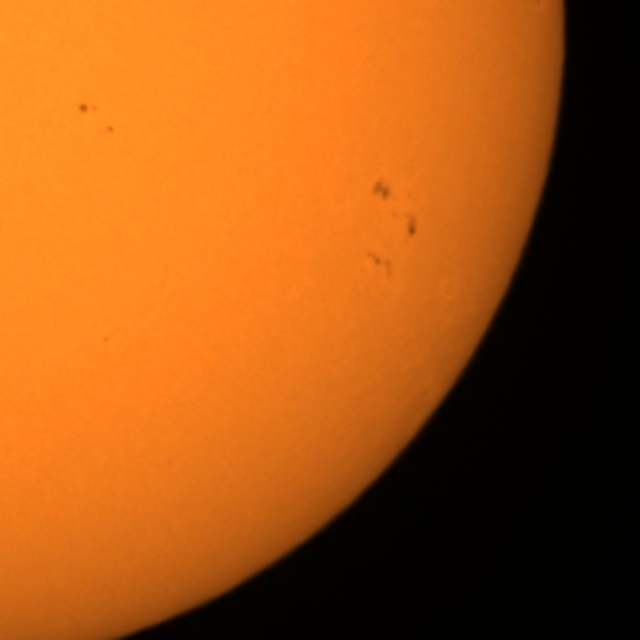sunspot: (363, 249, 394, 272), (370, 177, 394, 204), (404, 213, 420, 242), (75, 100, 101, 117), (103, 122, 117, 137), (100, 332, 113, 346)
